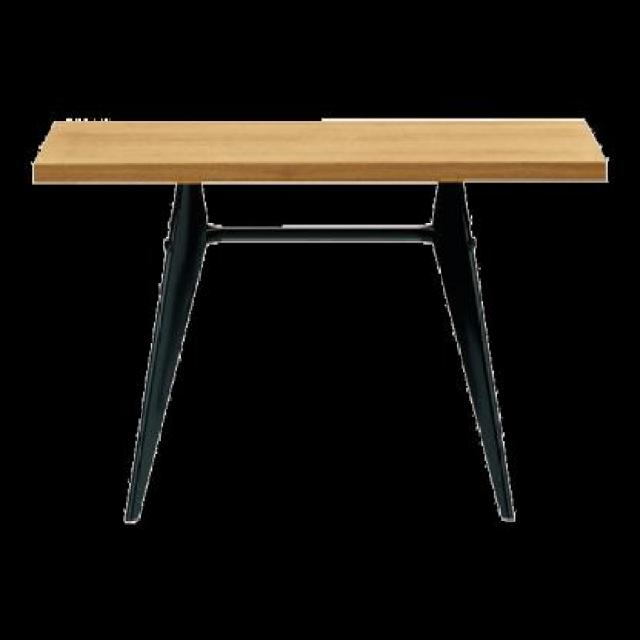table: (30, 116, 605, 524)
